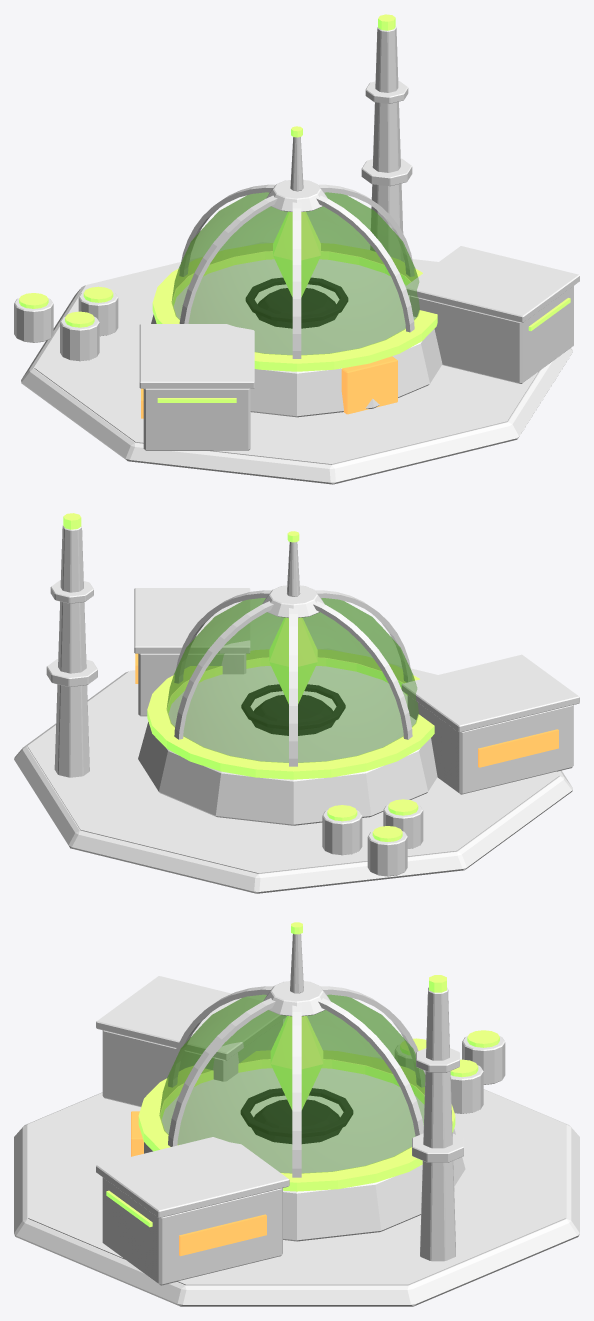
Rendered from sb_lab_t1.glb.
3 views of the same model, one above another, from view 1: azimuth 30°, elevation 25°; view 2: azimuth 150°, elevation 25°; view 3: azimuth 270°, elevation 25° (orthographic). The views are drawn at different scales.
Parts seen in each view (by area): view 1: SM_LAB_DOME, SM_LAB_DECK, SM_LAB_DOME_PLINTH, SM_LAB_BASE, SM_LAB_WING_1, SM_LAB_WING_1_ROOF, SM_LAB_WING_0_ROOF, SM_LAB_DOME_RING, SM_LAB_DOME_RIBS, SM_LAB_WING_0, SM_LAB_SPIRE, SM_LAB_CANISTERS (+5 smaller); view 2: SM_LAB_DOME, SM_LAB_DECK, SM_LAB_DOME_PLINTH, SM_LAB_BASE, SM_LAB_DOME_RING, SM_LAB_WING_0_ROOF, SM_LAB_SPIRE, SM_LAB_WING_0, SM_LAB_DOME_RIBS, SM_LAB_WING_1_ROOF, SM_LAB_CANISTERS, SM_LAB_CRYSTAL_CRADLE (+5 smaller); view 3: SM_LAB_DECK, SM_LAB_DOME, SM_LAB_DOME_PLINTH, SM_LAB_BASE, SM_LAB_WING_1, SM_LAB_WING_1_ROOF, SM_LAB_SPIRE, SM_LAB_WING_0_ROOF, SM_LAB_DOME_RIBS, SM_LAB_DOME_RING, SM_LAB_WING_0, SM_LAB_CRYSTAL_CRADLE (+5 smaller).
Part boxes in pixels (box(x1,y1,x2,y2)): SM_LAB_DOME: box(171, 192, 419, 355); SM_LAB_DECK: box(34, 242, 539, 464); SM_LAB_DOME_PLINTH: box(151, 259, 442, 417); SM_LAB_BASE: box(21, 285, 572, 484); SM_LAB_WING_1: box(409, 286, 573, 383); SM_LAB_WING_1_ROOF: box(405, 246, 579, 322); SM_LAB_WING_0_ROOF: box(139, 324, 254, 388); SM_LAB_DOME_RING: box(152, 243, 437, 371); SM_LAB_DOME_RIBS: box(179, 184, 414, 358); SM_LAB_WING_0: box(143, 388, 250, 450); SM_LAB_SPIRE: box(361, 27, 412, 261); SM_LAB_CANISTERS: box(14, 292, 118, 361); SM_LAB_DOME: box(166, 598, 418, 762); SM_LAB_DECK: box(27, 648, 559, 873); SM_LAB_DOME_PLINTH: box(138, 666, 437, 825); SM_LAB_BASE: box(14, 671, 572, 893); SM_LAB_DOME_RING: box(147, 649, 434, 779); SM_LAB_WING_0_ROOF: box(401, 654, 579, 732); SM_LAB_SPIRE: box(46, 525, 97, 777); SM_LAB_WING_0: box(407, 695, 573, 794); SM_LAB_DOME_RIBS: box(174, 590, 412, 766); SM_LAB_WING_1_ROOF: box(134, 588, 250, 653); SM_LAB_CANISTERS: box(322, 804, 423, 876); SM_LAB_CRYSTAL_CRADLE: box(241, 684, 345, 735); SM_LAB_DECK: box(28, 1057, 565, 1285); SM_LAB_DOME: box(159, 994, 425, 1173); SM_LAB_DOME_PLINTH: box(144, 1068, 465, 1241); SM_LAB_BASE: box(14, 1089, 579, 1306); SM_LAB_WING_1: box(102, 1177, 282, 1285); SM_LAB_WING_1_ROOF: box(96, 1133, 289, 1218); SM_LAB_SPIRE: box(412, 987, 463, 1261); SM_LAB_WING_0_ROOF: box(96, 976, 286, 1060); SM_LAB_DOME_RIBS: box(168, 986, 424, 1177); SM_LAB_DOME_RING: box(138, 1050, 455, 1191); SM_LAB_WING_0: box(102, 1020, 282, 1106); SM_LAB_CRYSTAL_CRADLE: box(240, 1088, 353, 1143).
Size of the model in its own units: 26.08 by 14.8 by 26.08.
